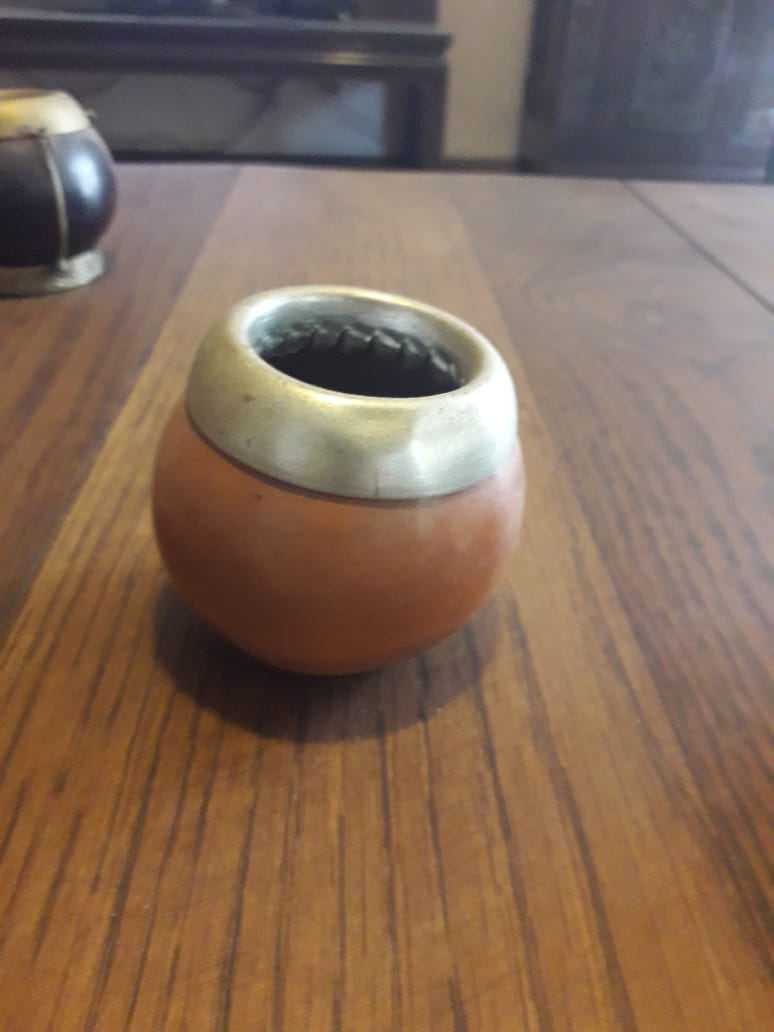calabaza: (141, 277, 525, 683)
mate: (143, 279, 527, 685)
